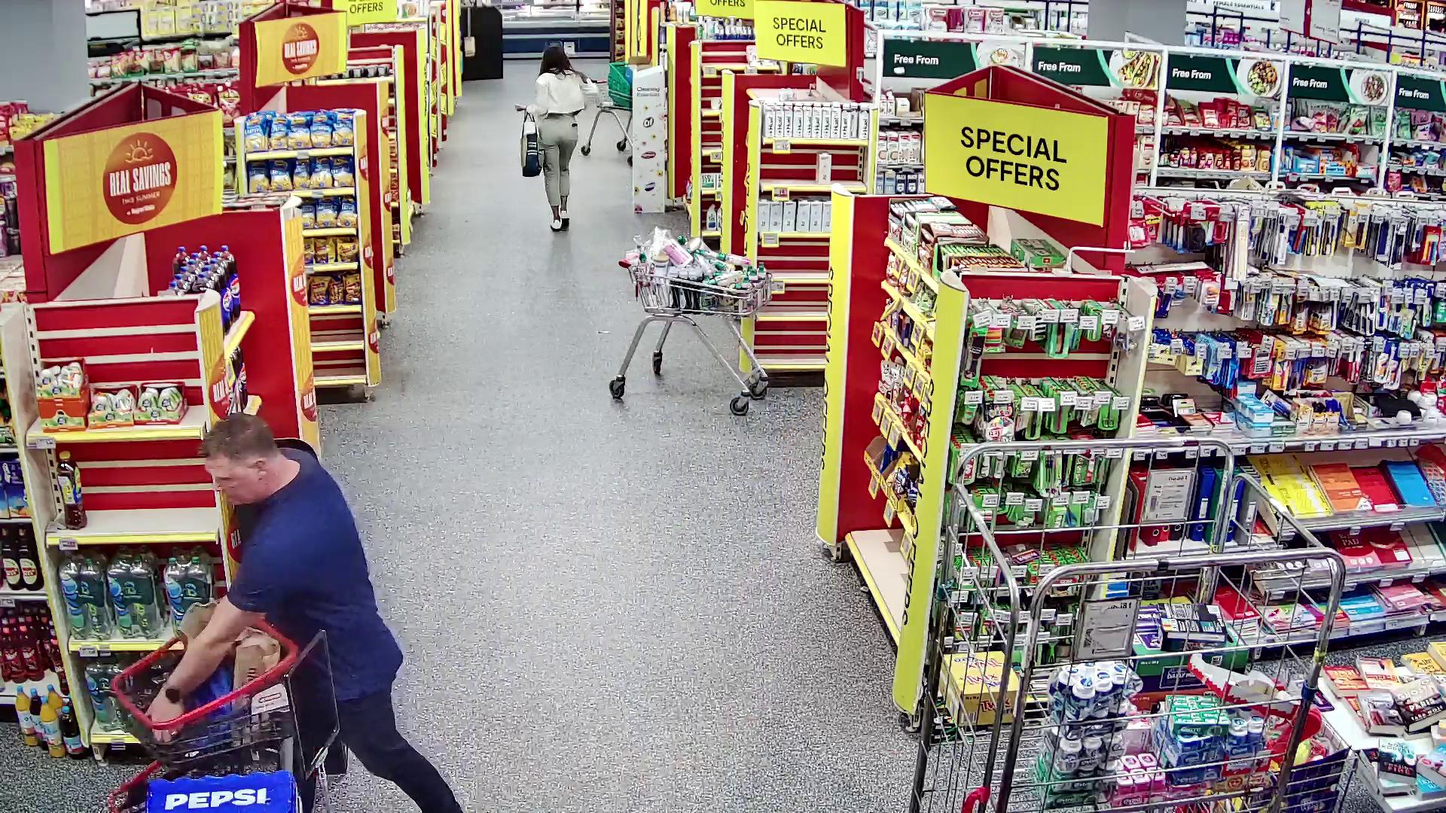filled-shopping-bags: (516, 109, 544, 177)
filled-trolly: (107, 605, 299, 813)
person: (149, 414, 463, 813), (514, 44, 599, 233)
person-with-filled-basket-trolly: (108, 415, 460, 811)
person-with-filled-shopping-bag-s-: (514, 45, 599, 234)
